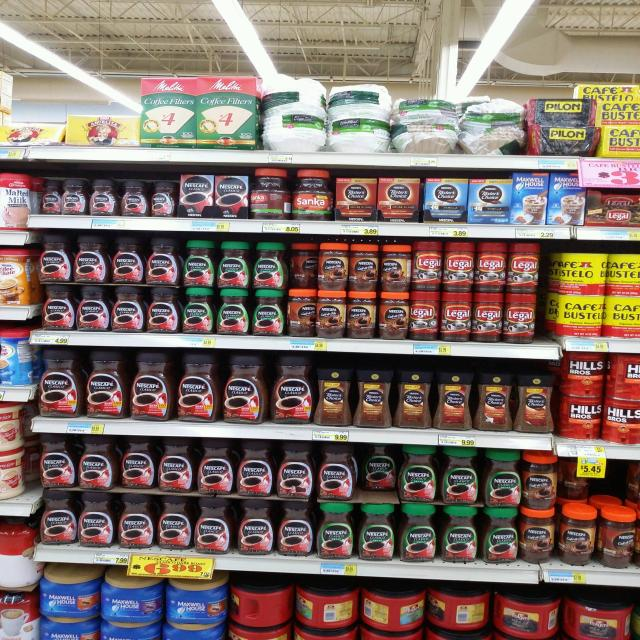unorganised: (460, 95, 529, 154), (296, 578, 362, 628), (426, 584, 492, 632), (230, 578, 295, 626), (560, 249, 607, 296), (360, 441, 398, 496), (289, 240, 317, 285), (565, 461, 589, 503), (41, 180, 62, 214)
